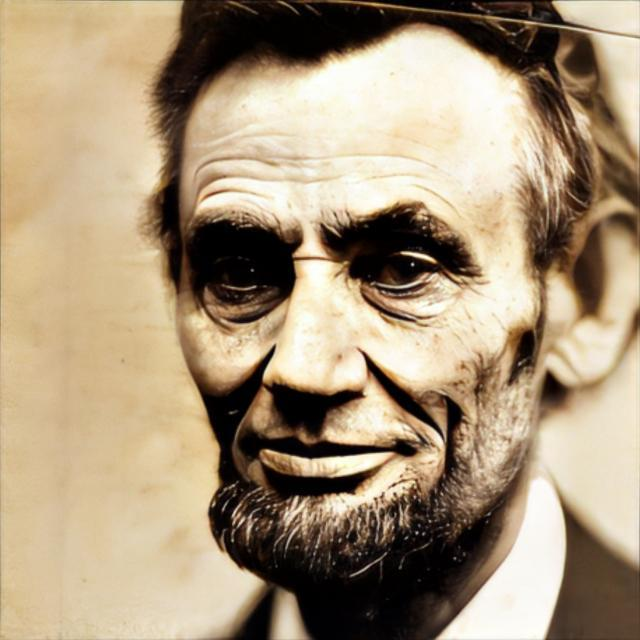content: (172, 22, 552, 595)
